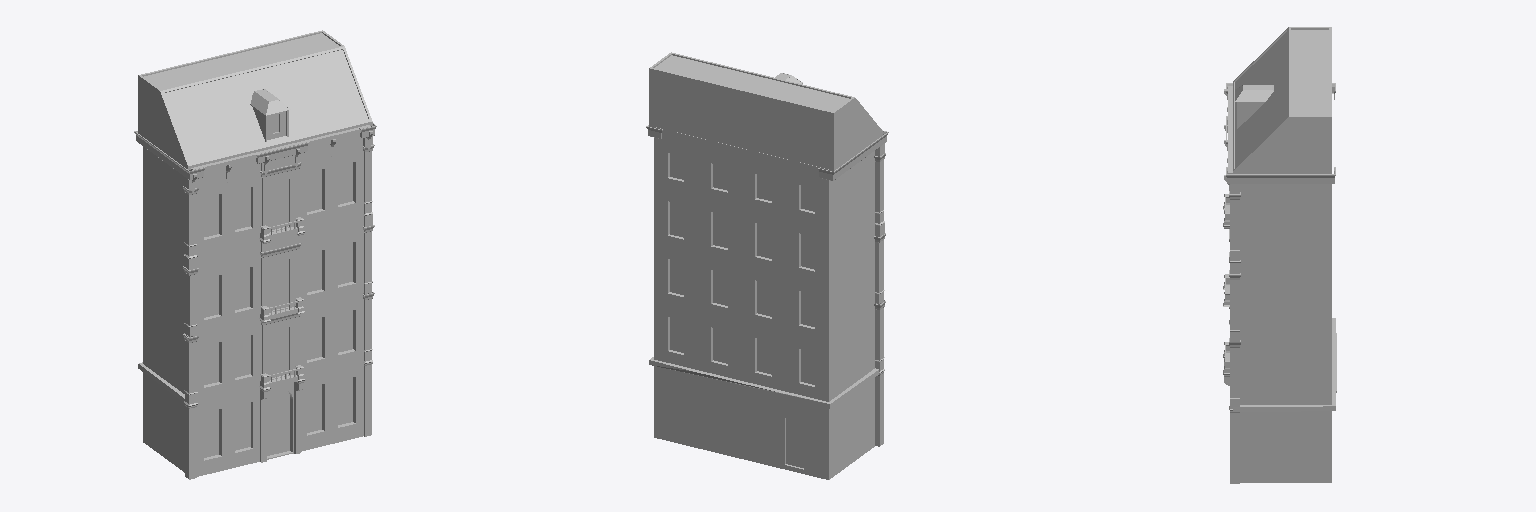
Rendered from casa2.obj.
3 views of the same model, side by side, from view 1: azimuth 30°, elevation 25°; view 2: azimuth 150°, elevation 25°; view 3: azimuth 270°, elevation 25° (orthographic).
Visible parts, largest first — view 1: EHS01; view 2: EHS01; view 3: EHS01.
Boxes of the visible parts, <box> form: EHS01: <box>134,30,376,479</box>; EHS01: <box>646,52,888,479</box>; EHS01: <box>1223,27,1336,483</box>.
Size of the model in its own units: 18.18 by 34.11 by 9.57.